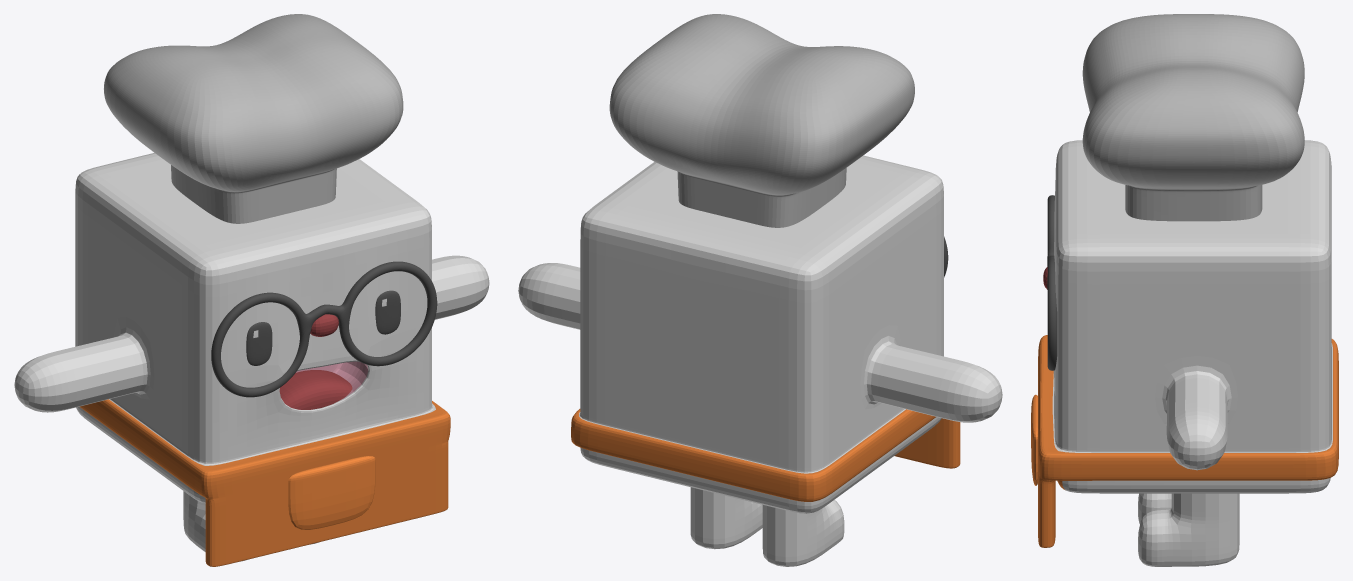
File: Chef.fbx
The picture shows the model from 3 angles, left to right: view 1: azimuth 30°, elevation 25°; view 2: azimuth 150°, elevation 25°; view 3: azimuth 270°, elevation 25°; orthographic projection.
Visible parts, largest first — view 1: Body, hat, Glasses, Pocket, Tonge, Eyes; view 2: Body, hat; view 3: Body, hat, Glasses, Pocket.
Part boxes in pixels (box(x1,y1,x2,y2)): Body: box(14, 153, 489, 566); hat: box(104, 14, 403, 223); Glasses: box(211, 261, 437, 397); Pocket: box(288, 456, 375, 529); Tonge: box(279, 370, 352, 409); Eyes: box(246, 290, 400, 365); Body: box(518, 155, 1002, 566); hat: box(609, 14, 914, 227); Body: box(1038, 140, 1338, 566); hat: box(1082, 14, 1304, 221); Glasses: box(1047, 195, 1057, 370); Pocket: box(1031, 394, 1037, 485).
Size of the model in its own units: 411 by 410 by 233.
